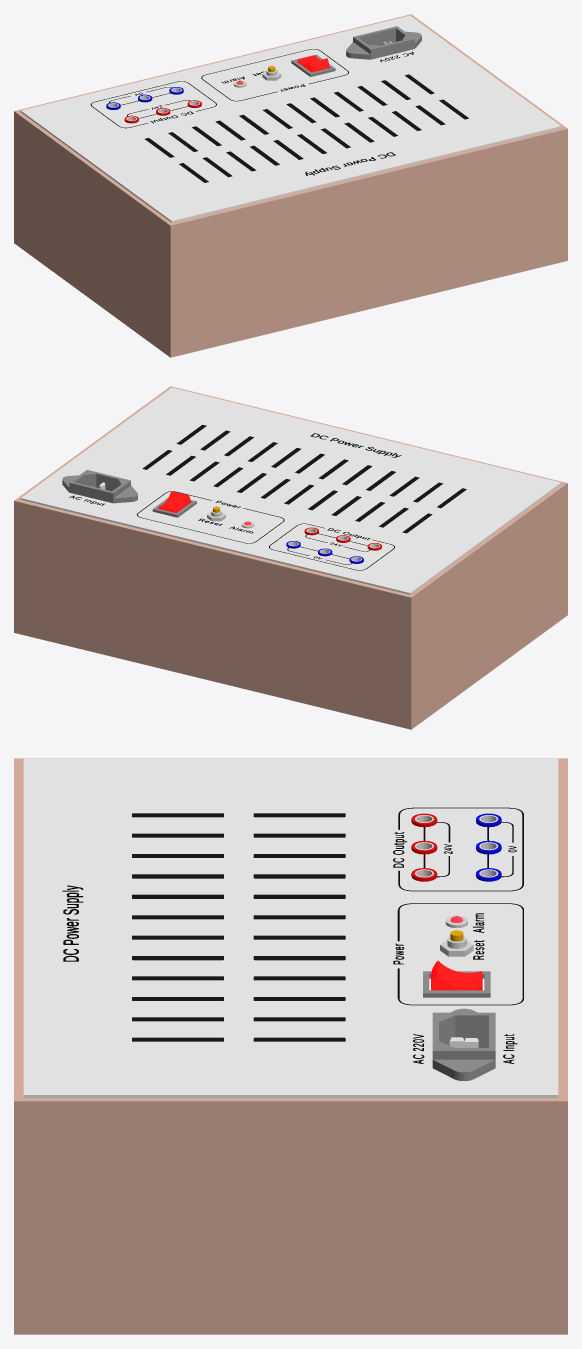
The model's file is smps.glb.
3 views of the same model, one above another, from view 1: azimuth 30°, elevation 25°; view 2: azimuth 150°, elevation 25°; view 3: azimuth 270°, elevation 25° (orthographic). The views are drawn at different scales.
Visible parts, largest first — view 1: ModuleCaseBase__go993__mesh0, DC-Power-Supply-OP__go1005__mesh0, Sticker__go1159__mesh0, DC-Power-Supply-OP__go1005__mesh1; view 2: ModuleCaseBase__go993__mesh0, DC-Power-Supply-OP__go1005__mesh0, Sticker__go1159__mesh0, DC-Power-Supply-OP__go1005__mesh1, Power-On-Off_Switch__go1044__mesh0; view 3: DC-Power-Supply-OP__go1005__mesh0, ModuleCaseBase__go993__mesh0, Sticker__go1159__mesh0, DC-Power-Supply-OP__go1005__mesh1, Power-On-Off_Switch__go1044__mesh0, DC-Power-Supply-OP__go1005__mesh4, DC-Power-Supply-OP__go1005__mesh5.
Part boxes in pixels (box(x1,y1,x2,y2)): ModuleCaseBase__go993__mesh0: box(14, 14, 567, 357); DC-Power-Supply-OP__go1005__mesh0: box(20, 15, 561, 222); Sticker__go1159__mesh0: box(90, 49, 468, 182); DC-Power-Supply-OP__go1005__mesh1: box(291, 26, 421, 76); ModuleCaseBase__go993__mesh0: box(14, 386, 567, 729); DC-Power-Supply-OP__go1005__mesh0: box(20, 387, 561, 594); Sticker__go1159__mesh0: box(69, 424, 466, 570); DC-Power-Supply-OP__go1005__mesh1: box(62, 470, 196, 517); Power-On-Off_Switch__go1044__mesh0: box(158, 491, 190, 512); DC-Power-Supply-OP__go1005__mesh0: box(23, 758, 558, 1097); ModuleCaseBase__go993__mesh0: box(14, 758, 567, 1334); Sticker__go1159__mesh0: box(62, 807, 523, 1063); DC-Power-Supply-OP__go1005__mesh1: box(423, 971, 495, 1080); Power-On-Off_Switch__go1044__mesh0: box(431, 960, 482, 990); DC-Power-Supply-OP__go1005__mesh4: box(411, 813, 437, 881); DC-Power-Supply-OP__go1005__mesh5: box(476, 813, 501, 881).
Size of the model in its own units: 0.252 by 0.0875 by 0.172.
11 materials, 4 textured.
